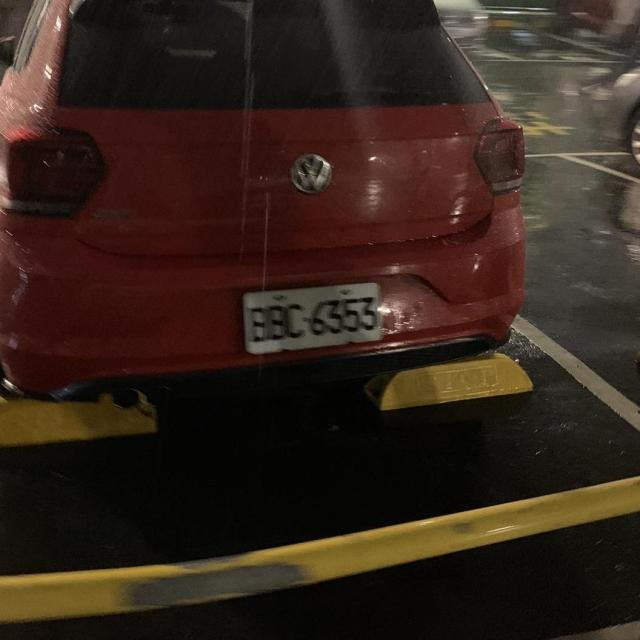W: (241, 282, 383, 356)
